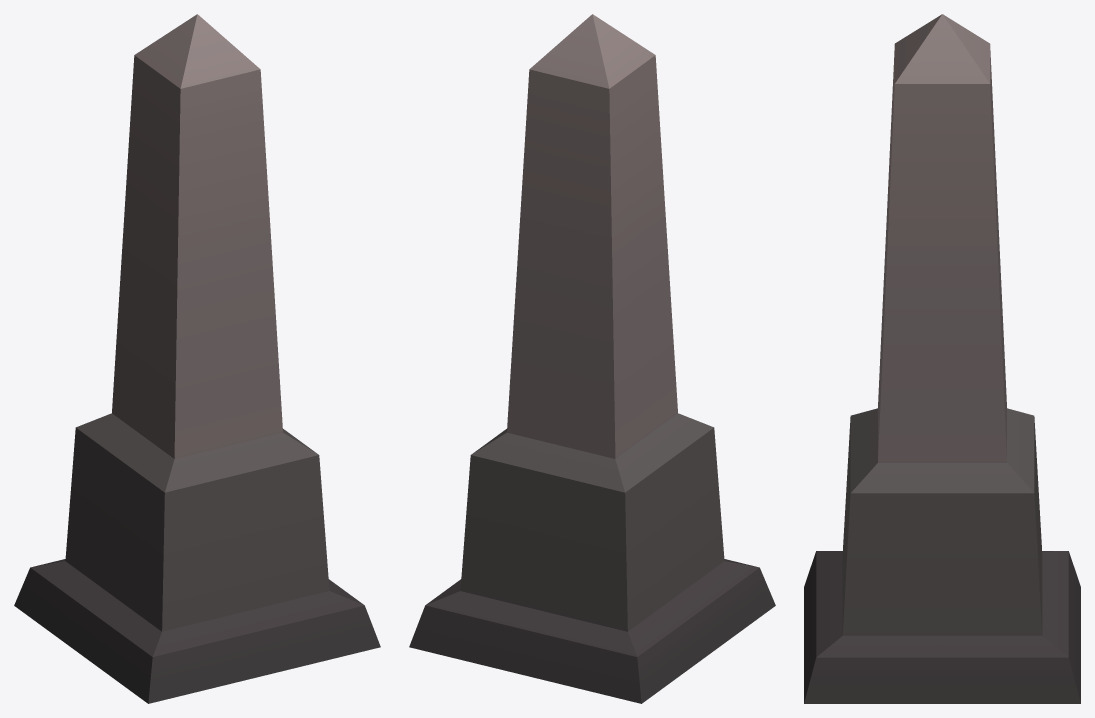
File: Obelisk.obj
3 renders of one model, left to right at view 1: azimuth 30°, elevation 25°; view 2: azimuth 150°, elevation 25°; view 3: azimuth 270°, elevation 25°, orthographic. The views are drawn at different scales.
Parts seen in each view (by area): view 1: {mesh}Obelisk_Cube.023; view 2: {mesh}Obelisk_Cube.023; view 3: {mesh}Obelisk_Cube.023.
Boxes of the visible parts, box(x1,y1,x2,y2) form: {mesh}Obelisk_Cube.023: box(14, 14, 380, 703); {mesh}Obelisk_Cube.023: box(409, 14, 775, 703); {mesh}Obelisk_Cube.023: box(804, 14, 1080, 703).
Bounding box in the file's own units: 40.38 × 102 × 40.38.
1 material, 1 textured.
